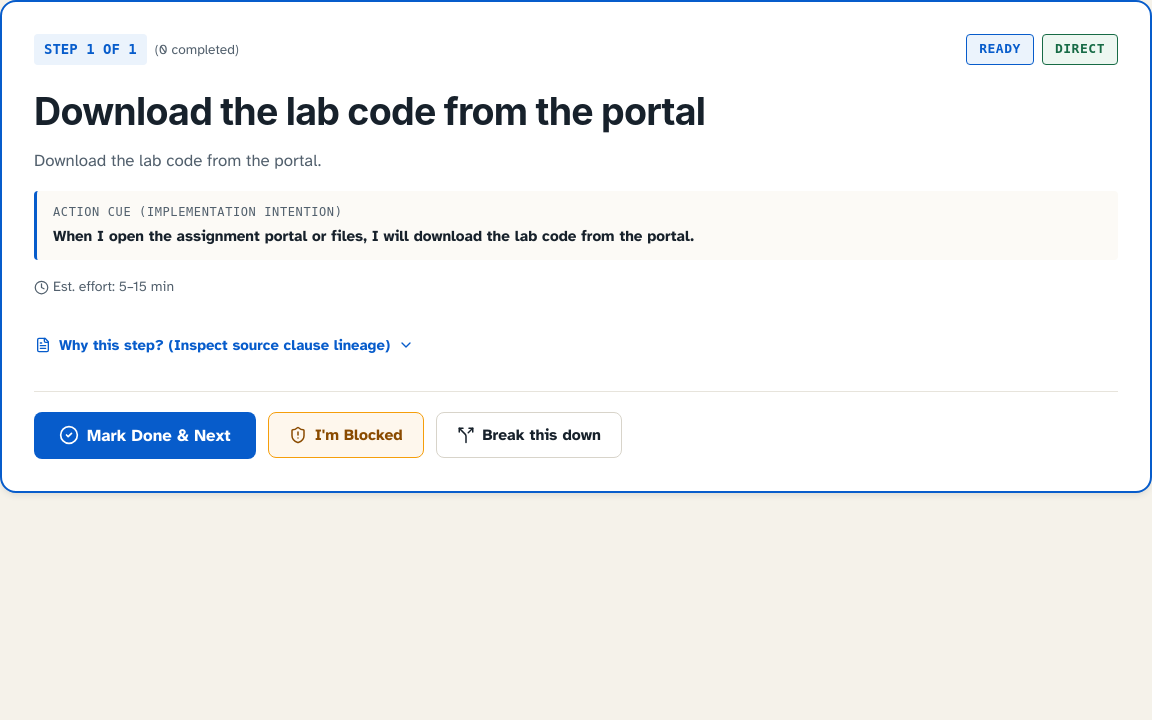
FocusRail Component › expands source clause evidence when disclosure is clicked
Click the button "Why this step? (Inspect source clause lineage)".
click(225, 344)  # box [34,322,415,366]
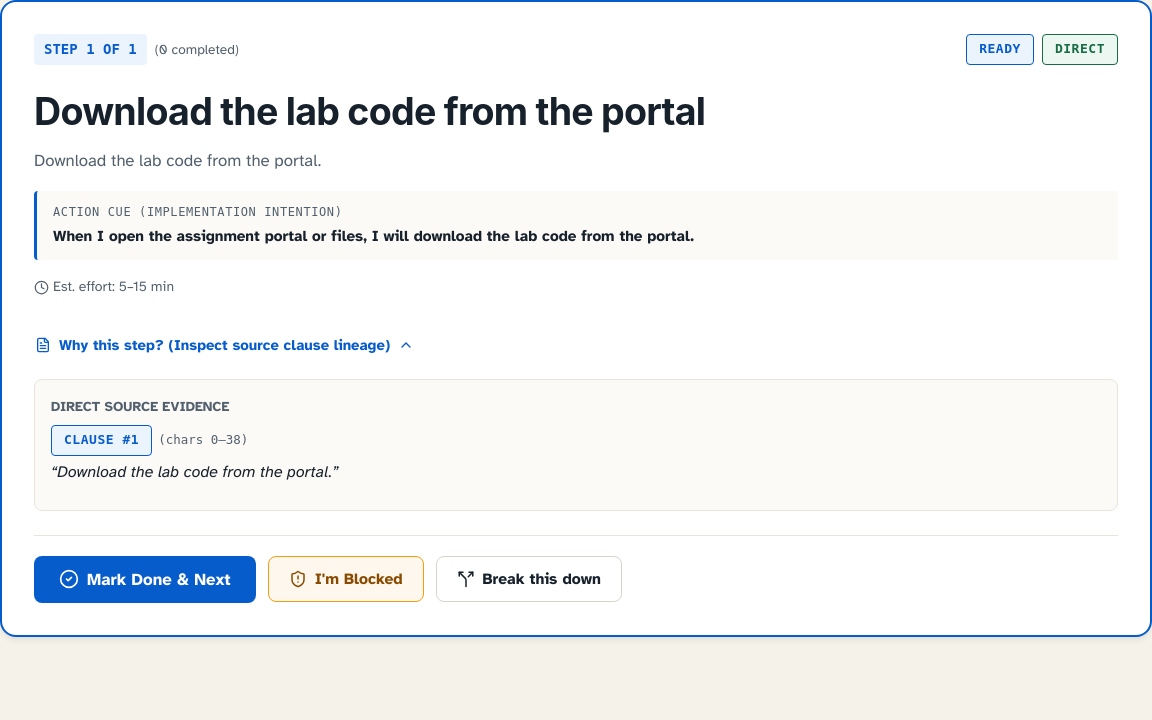
Check: the text "Direct Source Evidence" is shown, box [51,398,229,414]
Check: the text "Clause #1" is shown, box [51,425,152,456]
